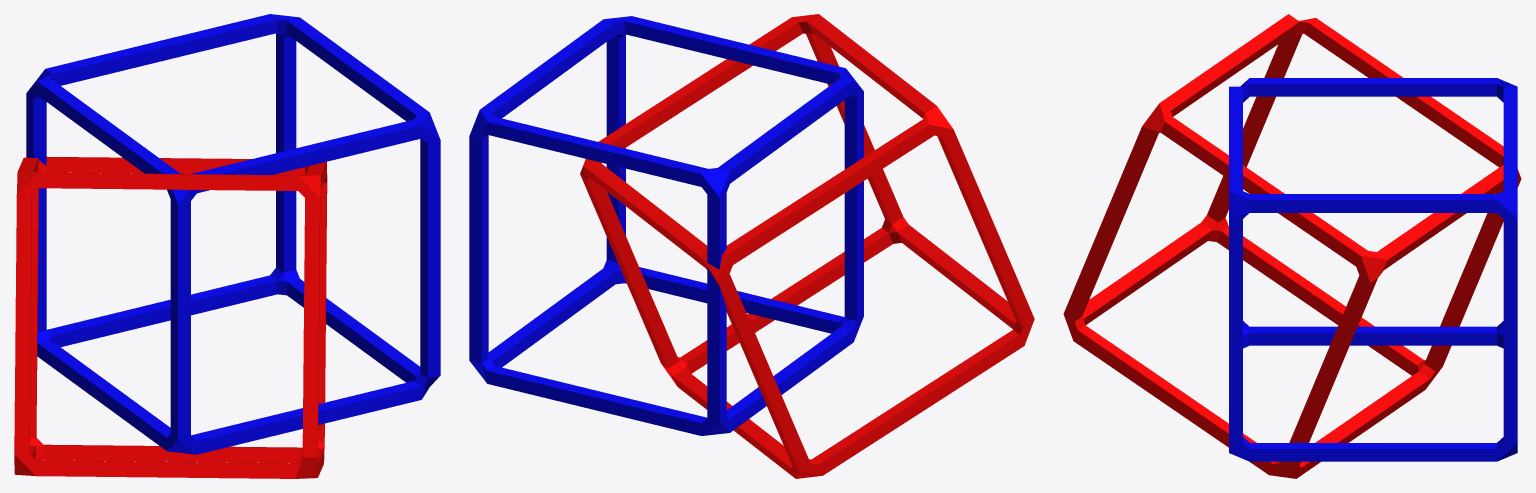
3 renders of one model, left to right at view 1: azimuth 30°, elevation 25°; view 2: azimuth 150°, elevation 25°; view 3: azimuth 270°, elevation 25°, orthographic. The views are drawn at different scales.
Parts seen in each view (by area): view 1: Cube, Cube.001; view 2: Cube, Cube.001; view 3: Cube.001, Cube.
Boxes of the visible parts, x1,y1,x2,y2 form: Cube: [26, 14, 440, 454]; Cube.001: [14, 156, 327, 478]; Cube: [469, 16, 863, 435]; Cube.001: [580, 14, 1034, 478]; Cube.001: [1063, 14, 1521, 478]; Cube: [1229, 78, 1517, 461].
Bounding box in the file's own units: 348 × 274 × 334.
